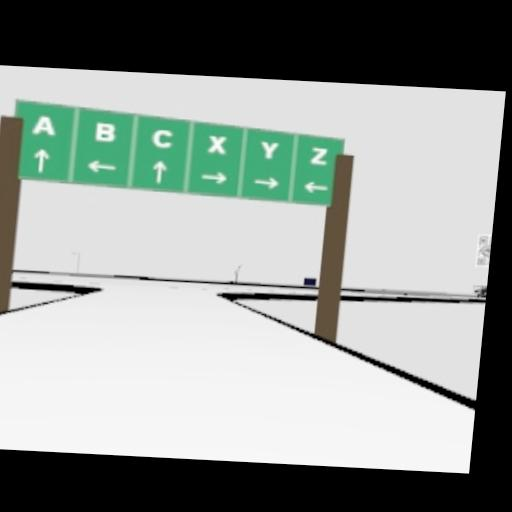A: (30, 115, 56, 135)
B: (93, 120, 117, 142)
C: (151, 128, 172, 148)
Left: (86, 159, 117, 175), (302, 181, 329, 194)
Right: (199, 170, 227, 184), (252, 176, 279, 189)
Straight: (31, 147, 49, 172), (150, 159, 167, 181)
X: (207, 134, 228, 154)
Y: (260, 141, 278, 159)
Z: (308, 146, 329, 164)
